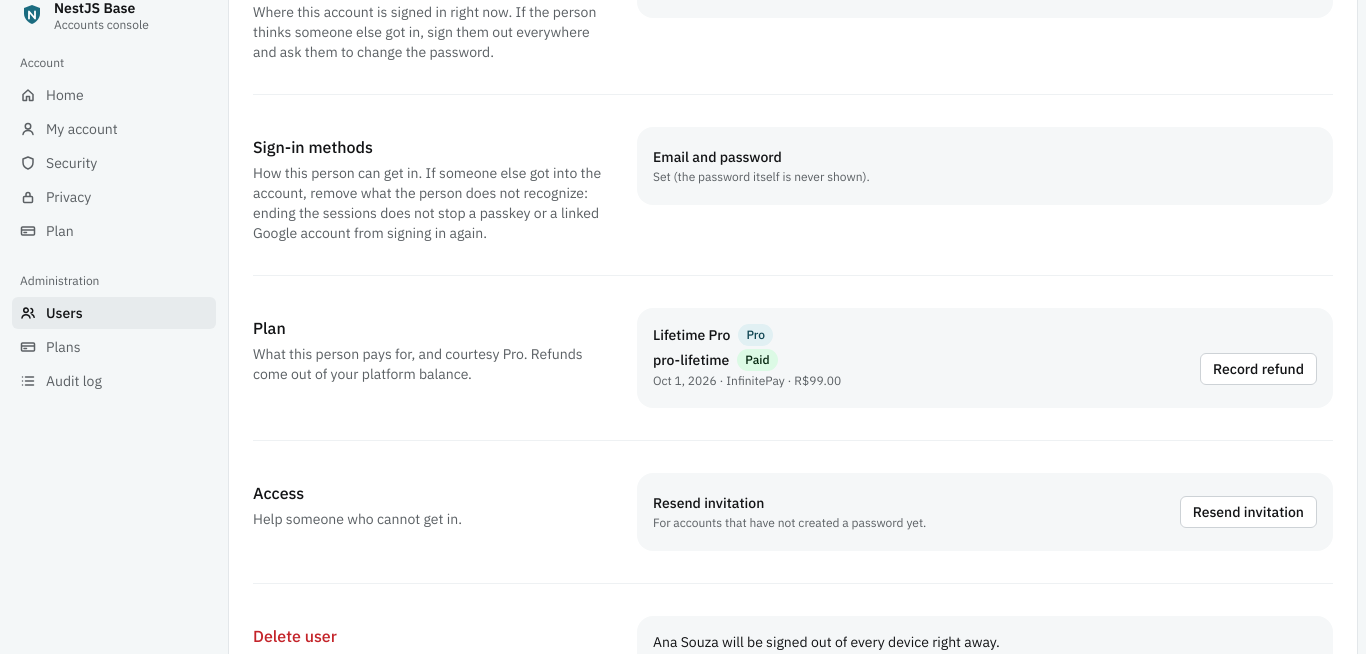
Plano do usuário (admin) › InfinitePay: registra o reembolso feito no app dela
(page scrolled)
Expected: the text "Lifetime Pro" is shown, [653,326,730,344]
Expected: the button "Give courtesy Pro" is not shown
What coordinates should you click on to do the following:
click the button "Record refund"
I would click on:
 (1259, 369)
Its box is [1200,353,1317,385].
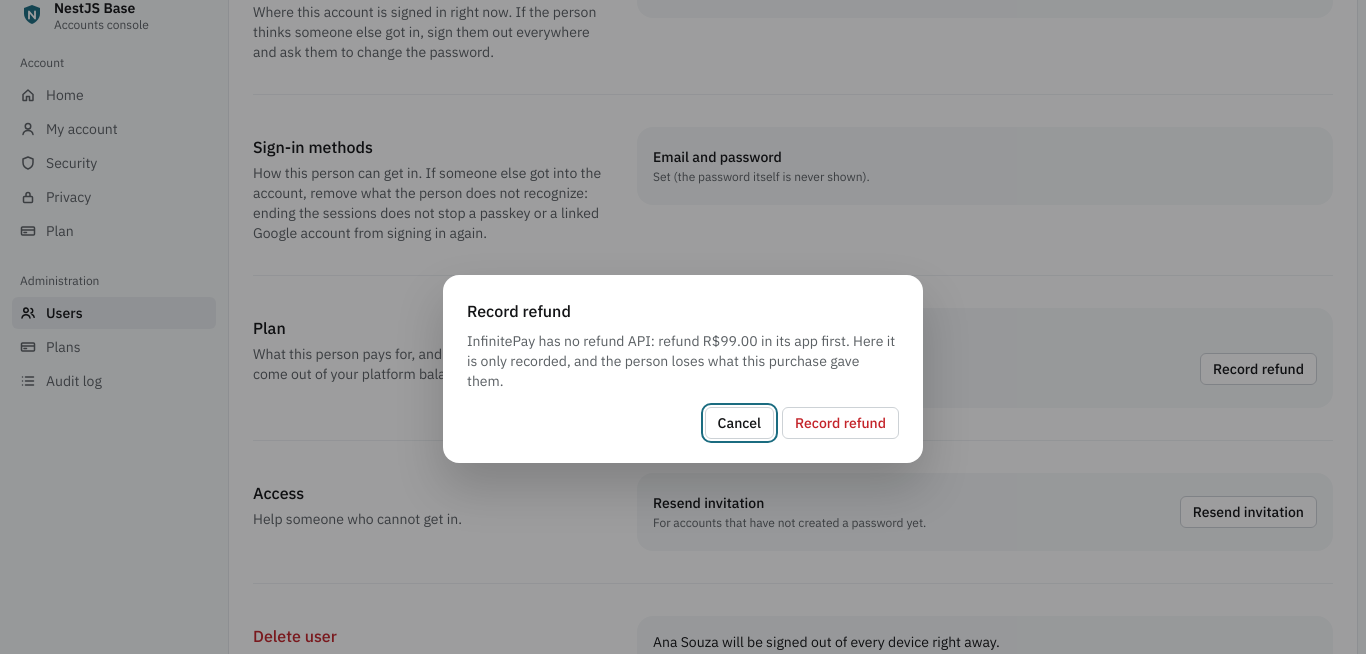
Result: the text "has no refund API" is shown at [467,332,895,390]
What coordinates should you click on to do the following:
click the button "Record refund"
I would click on:
 (841, 423)
Its box is [782,407,899,439].
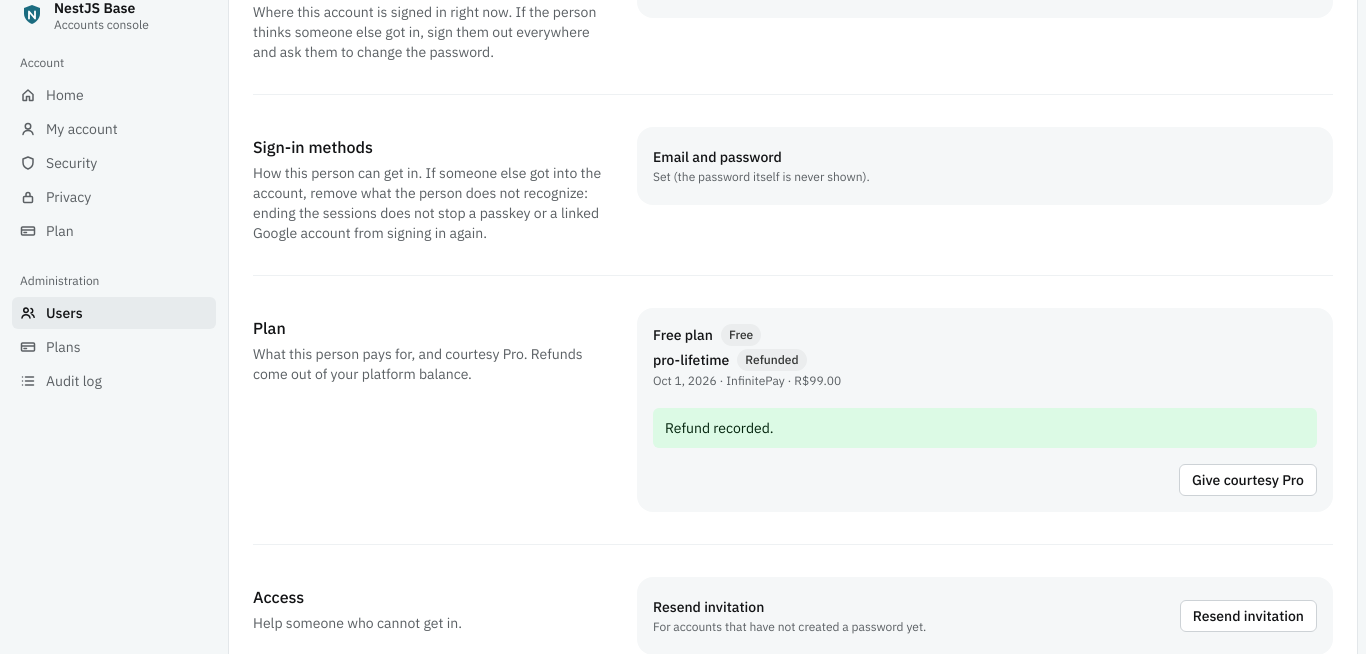
Result: the text "Refund recorded." is shown at [653,408,1317,448]
